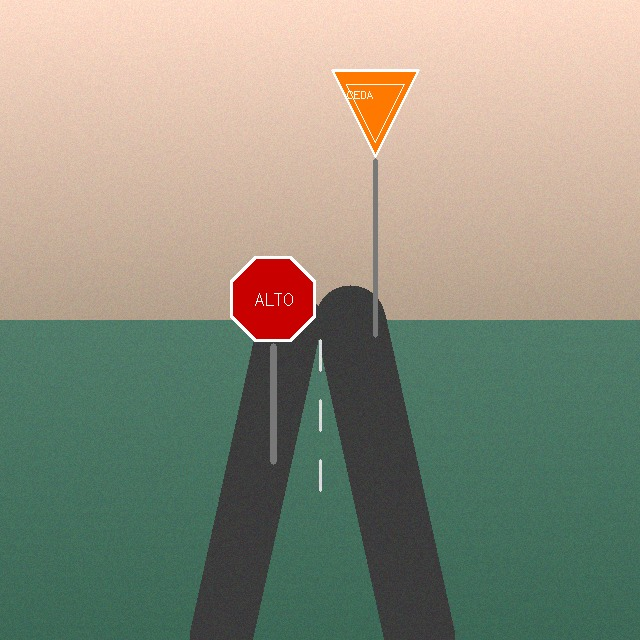alto: (226, 252, 320, 346)
ceda_el_paso: (328, 66, 422, 160)
